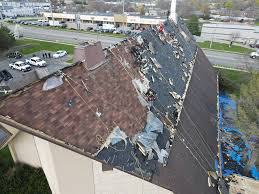sagging_roof: (76, 13, 198, 173)
